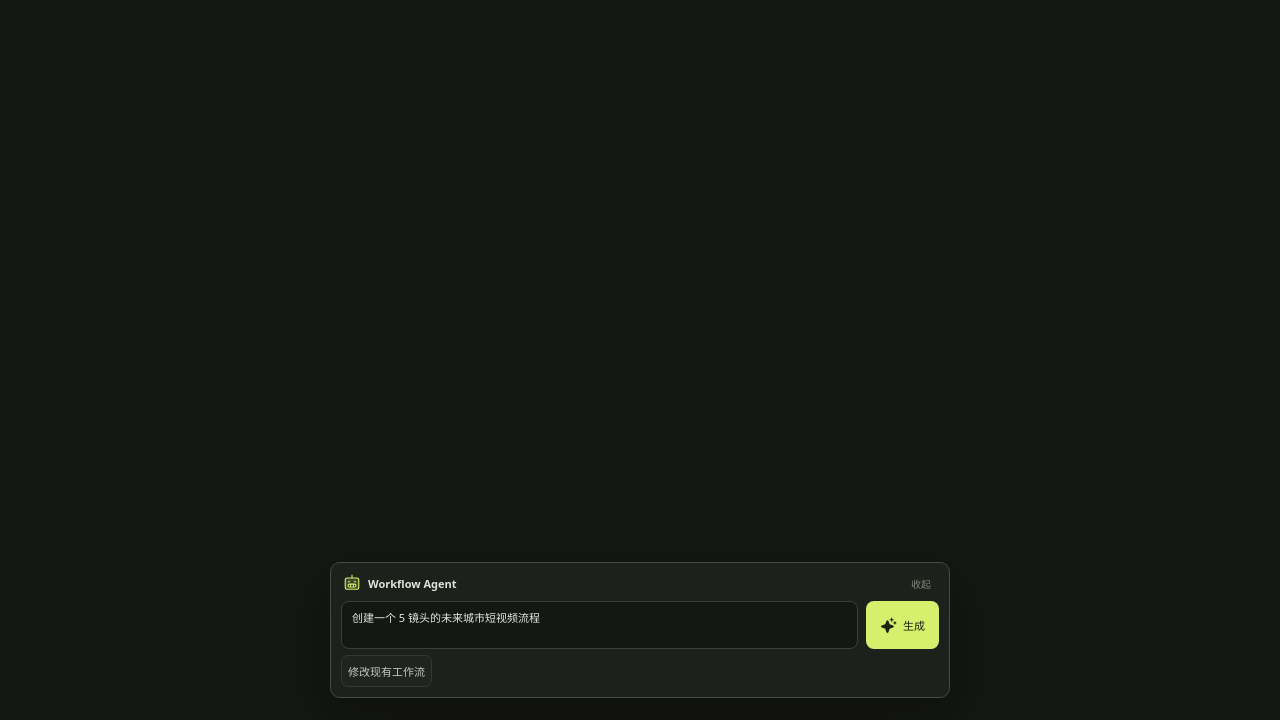
it: AgentComposer modify diff (MOD-R3-004) › destructive op shows a confirmation with removals and can be aborted
Click the button "修改现有工作流": (386, 671) [341,655,432,687]
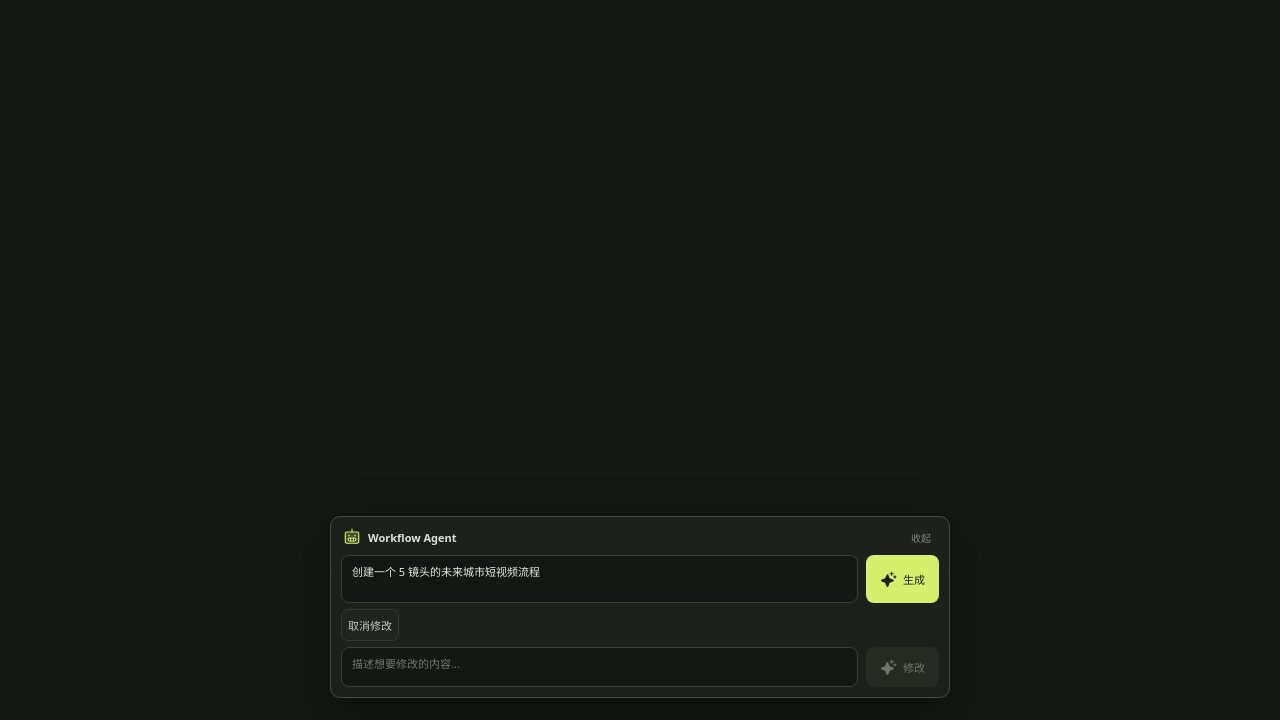
In the text box named "修改指令": (600, 667) [341,647,858,687], type "删掉输出节点"
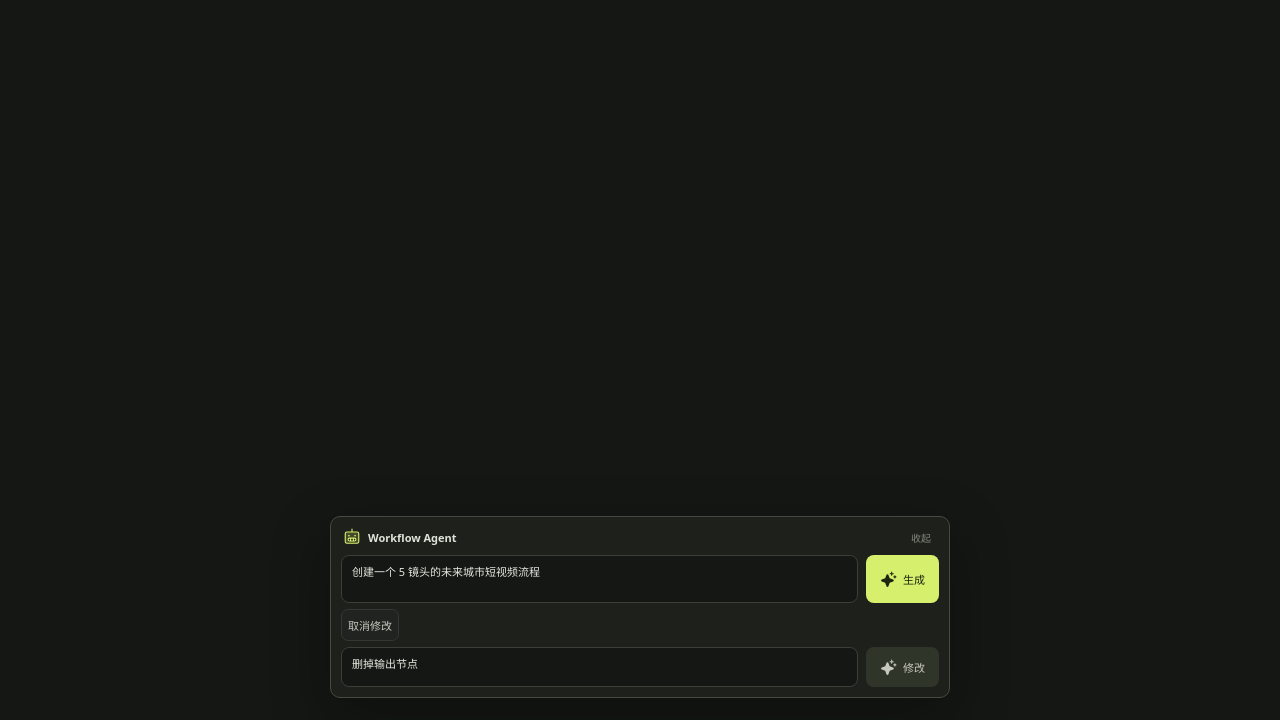
Click the button "修改": (902, 667) [866,647,939,687]
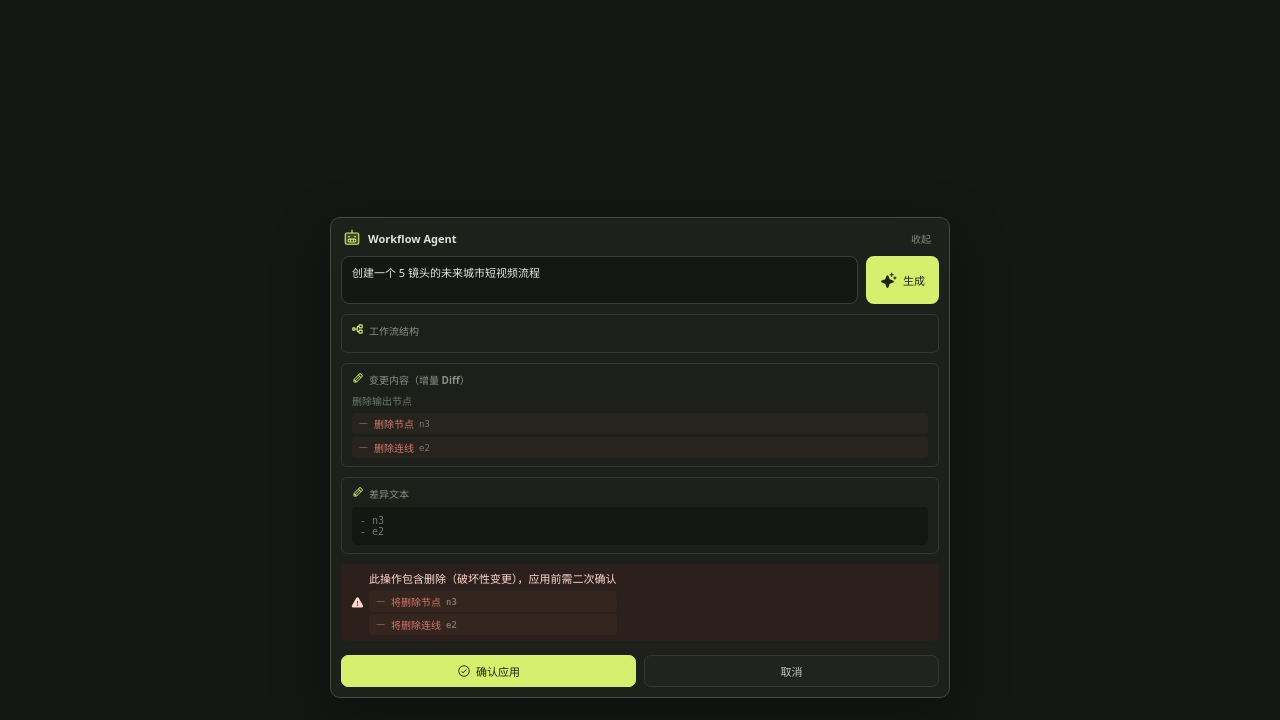
Check: the text "变更内容（增量 Diff）" is shown, box [352,372,470,387]
Check: the text "此操作包含删除（破坏性变更），应用前需二次确认" is shown, box [369,570,616,586]
Check: the text "将删除节点" is shown, box [391,595,441,609]
Click the button "确认应用": (488, 671) [341,655,636,687]
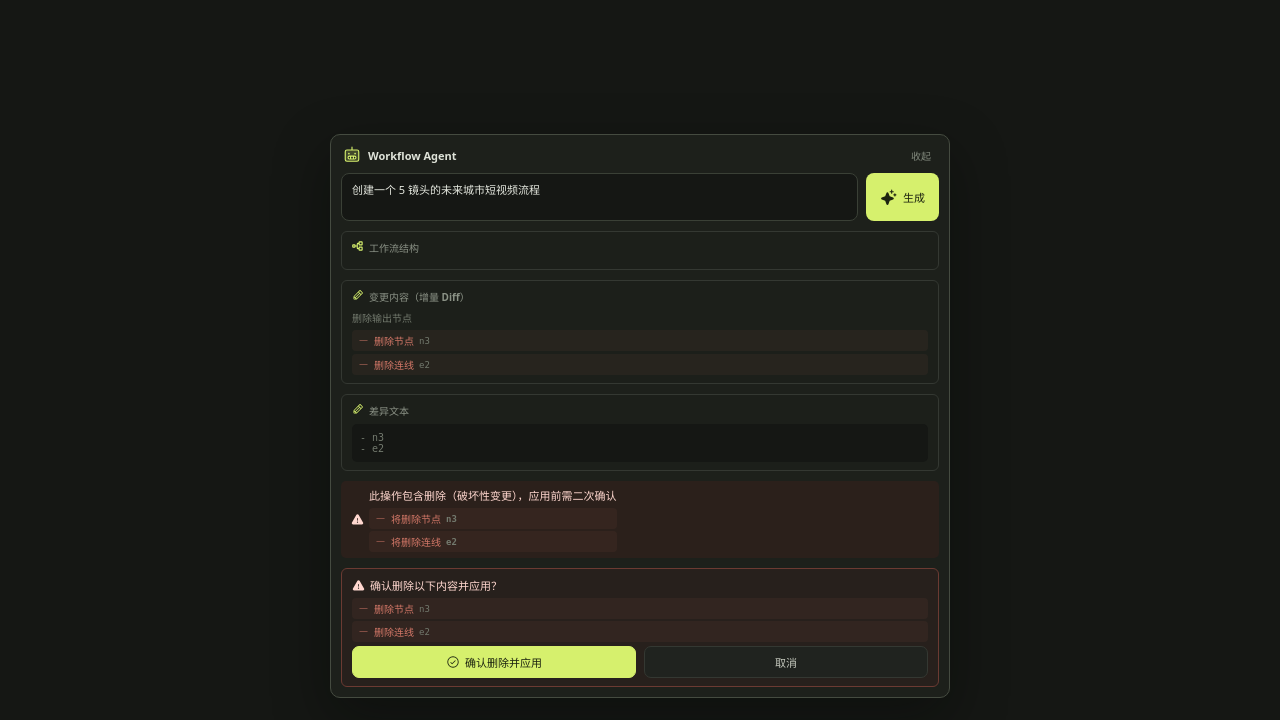
Check: the text "确认删除以下内容并应用？" is shown, box [352,578,502,593]
Check: the text "删除节点" below "确认删除以下内容并应用？" is shown, box [374,602,414,616]
Check: the text "n3" below "确认删除以下内容并应用？" is shown, box [419,604,430,614]
Click the button "取消": (786, 662) [644,646,928,678]
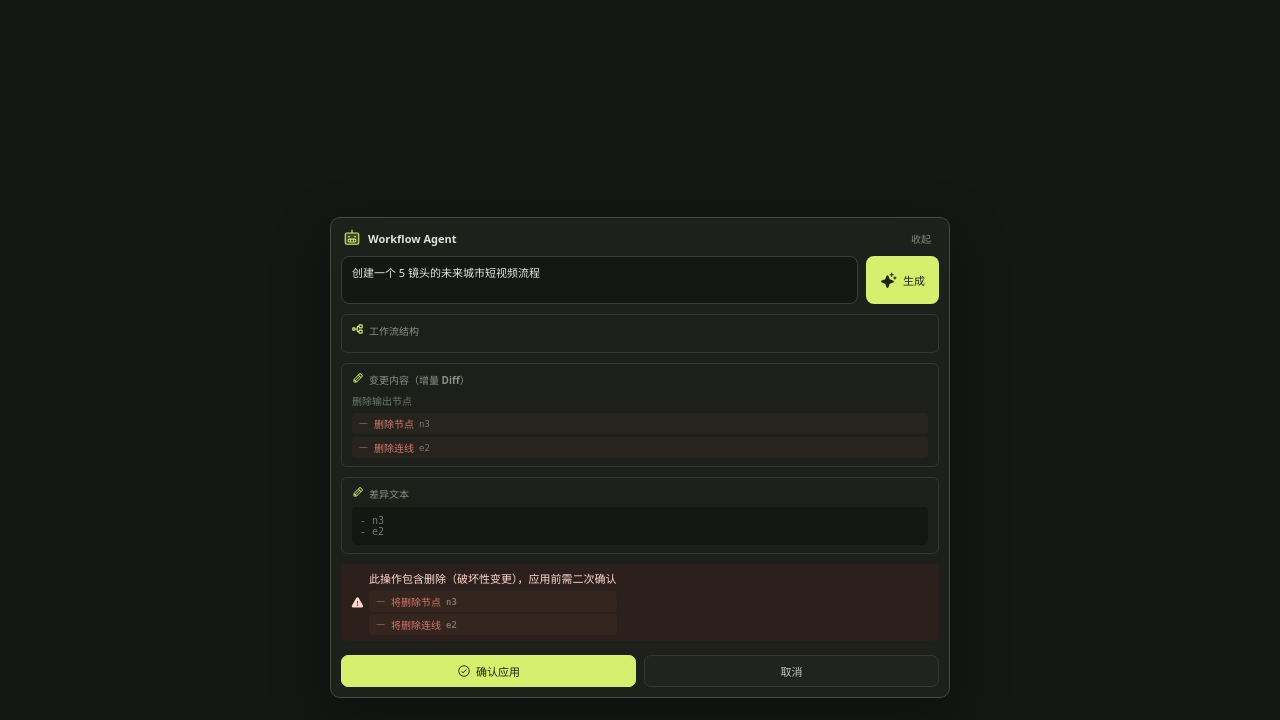
Check: the text "确认删除以下内容并应用？" is gone
Check: the button "确认应用" is shown, box [341,655,636,687]
